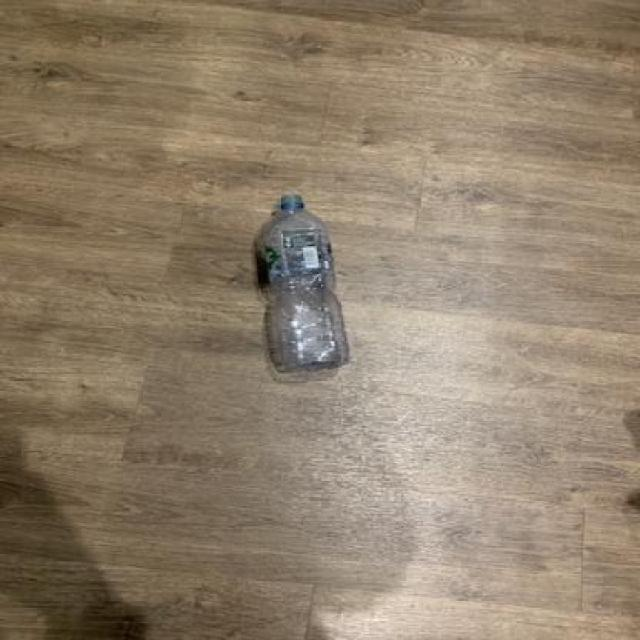trash: (250, 191, 345, 374)
